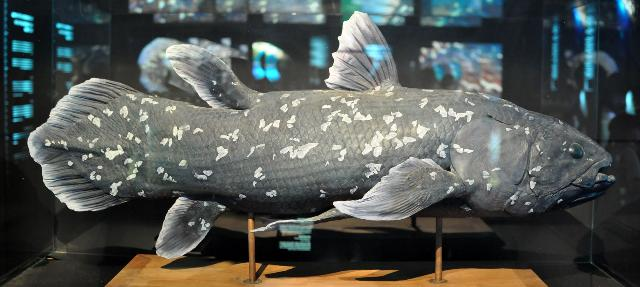Mulut: (581, 130, 627, 206)
Sirip Anal: (147, 184, 223, 248)
Sirip Dada: (330, 152, 472, 215)
Sirip Ekor: (23, 66, 145, 226)
Sirip Perut: (244, 205, 360, 251)
Sirip Punggung: (160, 6, 420, 120)
